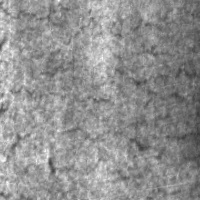crazing: (127, 18, 199, 166), (0, 86, 115, 176), (0, 0, 131, 52)
